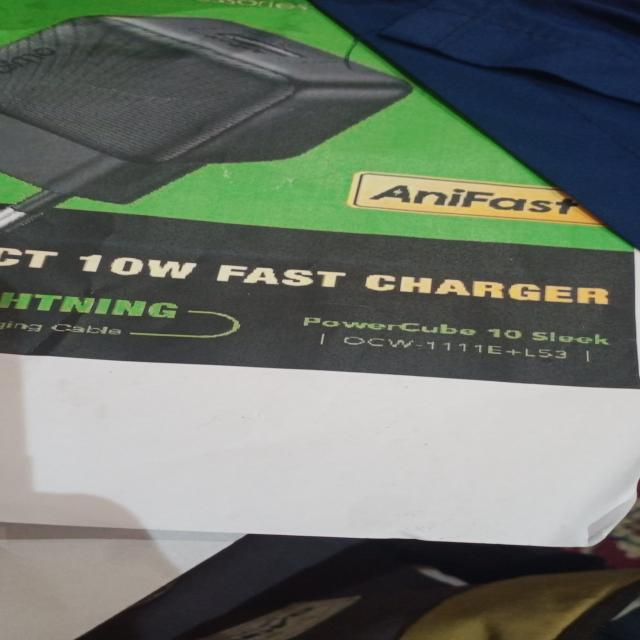PowerCube 10 Sleek OCW-1111ExL53: (286, 304, 616, 372)
